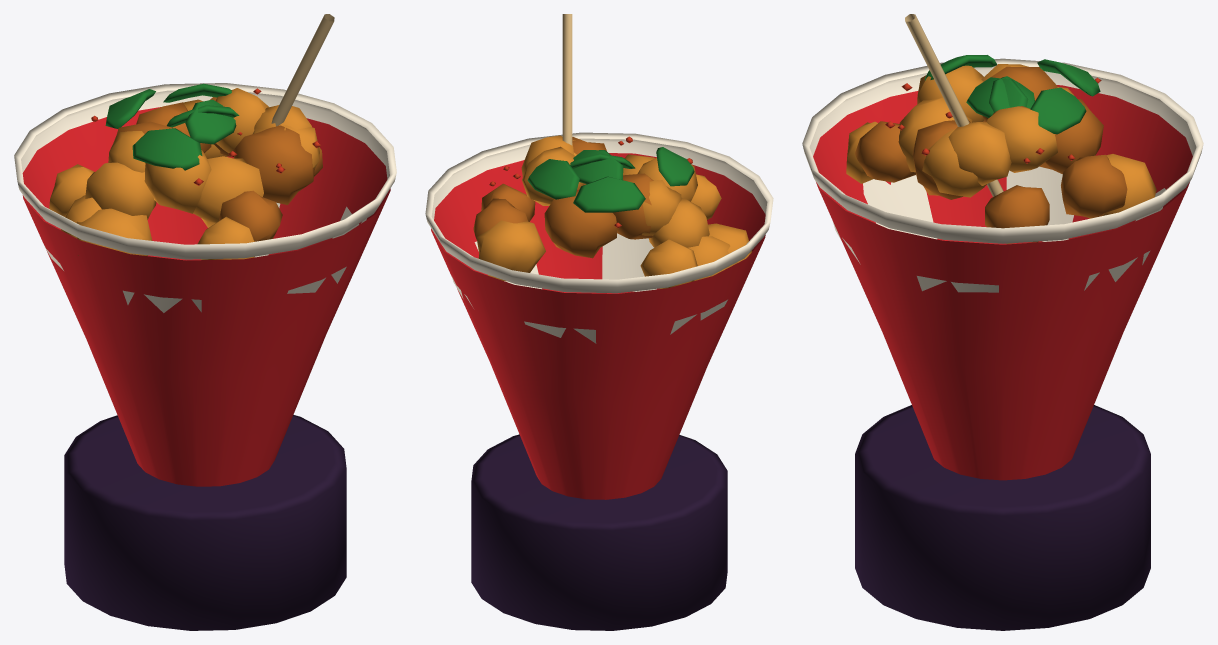
3 views of the same model, side by side, from view 1: azimuth 30°, elevation 25°; view 2: azimuth 150°, elevation 25°; view 3: azimuth 270°, elevation 25° (orthographic). The views are drawn at different scales.
Parts seen in each view (by area): view 1: cone, stand, chicken, cone_rim, basil, pick, cone_stripes; view 2: cone, stand, chicken, cone_rim, basil, cone_stripes, pick; view 3: cone, stand, chicken, cone_rim, basil, cone_stripes, pick.
Part boxes in pixels (x1=…): cone: x1=22, y1=107, x2=390, y2=486; stand: x1=64, y1=415, x2=346, y2=630; chicken: x1=49, y1=88, x2=322, y2=259; cone_rim: x1=14, y1=83, x2=396, y2=259; basil: x1=105, y1=83, x2=239, y2=170; pick: x1=271, y1=14, x2=334, y2=126; cone_stripes: x1=44, y1=202, x2=366, y2=312; cone: x1=431, y1=153, x2=765, y2=499; stand: x1=471, y1=434, x2=727, y2=630; chicken: x1=473, y1=135, x2=752, y2=288; cone_rim: x1=425, y1=132, x2=773, y2=293; basil: x1=527, y1=147, x2=694, y2=212; cone_stripes: x1=451, y1=233, x2=727, y2=343; pick: x1=562, y1=14, x2=572, y2=145; cone: x1=813, y1=85, x2=1192, y2=480; stand: x1=855, y1=405, x2=1150, y2=630; chicken: x1=846, y1=64, x2=1156, y2=243; cone_rim: x1=802, y1=58, x2=1203, y2=243; basil: x1=925, y1=55, x2=1100, y2=134; cone_stripes: x1=832, y1=166, x2=1165, y2=292; pick: x1=905, y1=14, x2=1003, y2=196.
Bounding box in the file's own units: 0.095 × 0.155 × 0.095.
